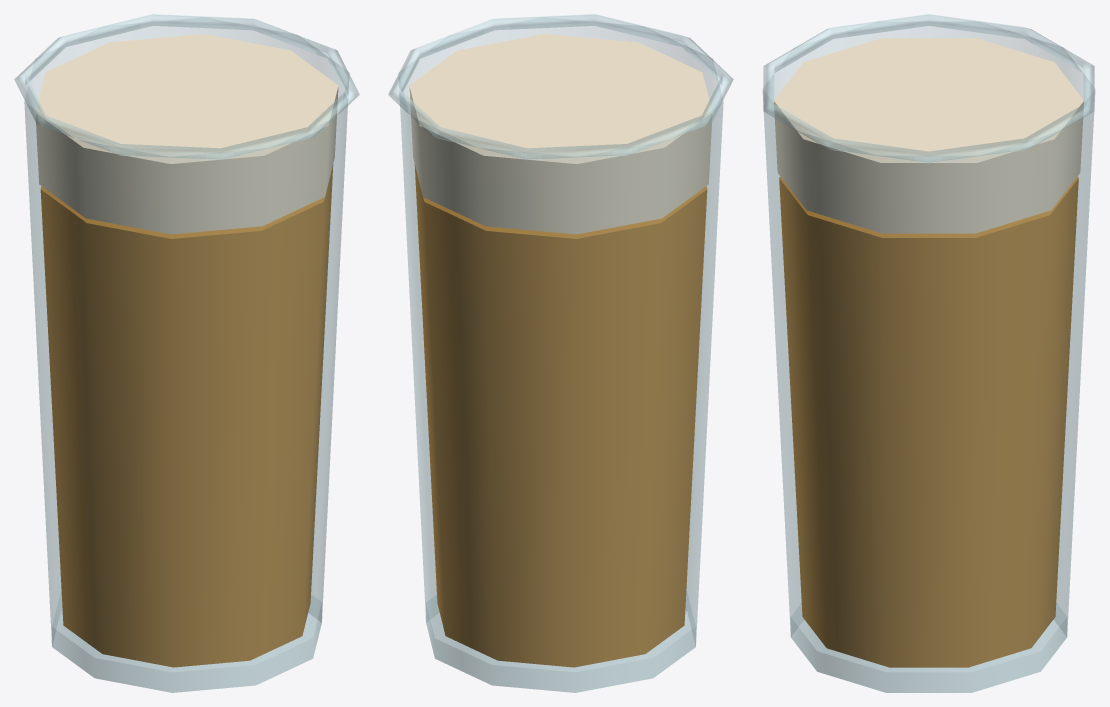
The model's file is pint-of-beer.glb.
The picture shows the model from 3 angles, left to right: view 1: azimuth 30°, elevation 25°; view 2: azimuth 150°, elevation 25°; view 3: azimuth 270°, elevation 25°; orthographic projection.
Parts seen in each view (by area): view 1: pint-of-beer; view 2: pint-of-beer; view 3: pint-of-beer.
Part boxes in pixels (x1,y1,x2,y2): pint-of-beer: (14,14,359,692); pint-of-beer: (388,14,733,692); pint-of-beer: (762,14,1095,692).
Bounding box in the file's own units: 0.092 × 0.1617 × 0.088.
